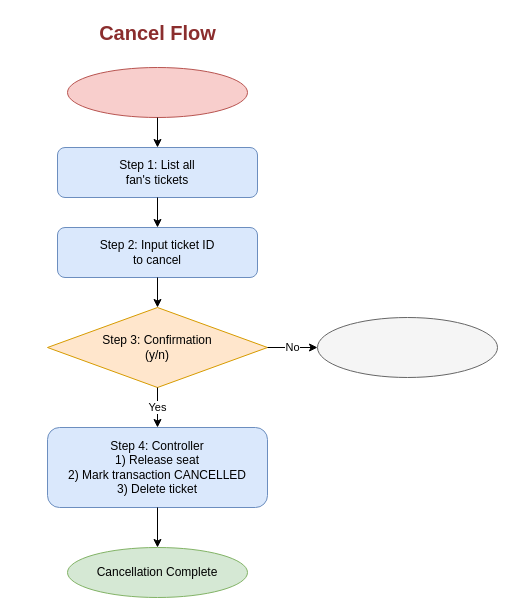
Some shapes in this 515 by 615 pixel diagram are drawn without their labels. Each missing label, with the centre of its shape:
Cancellation aborted (no changes made): [407,347]
Start Cancel: [157,92]
